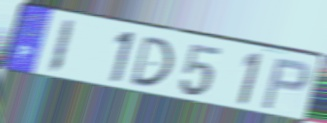1: (108, 30, 139, 85), (237, 51, 263, 108)
5: (178, 41, 225, 98)
D: (127, 35, 174, 89)
I: (45, 18, 77, 76)
P: (259, 57, 312, 112)
